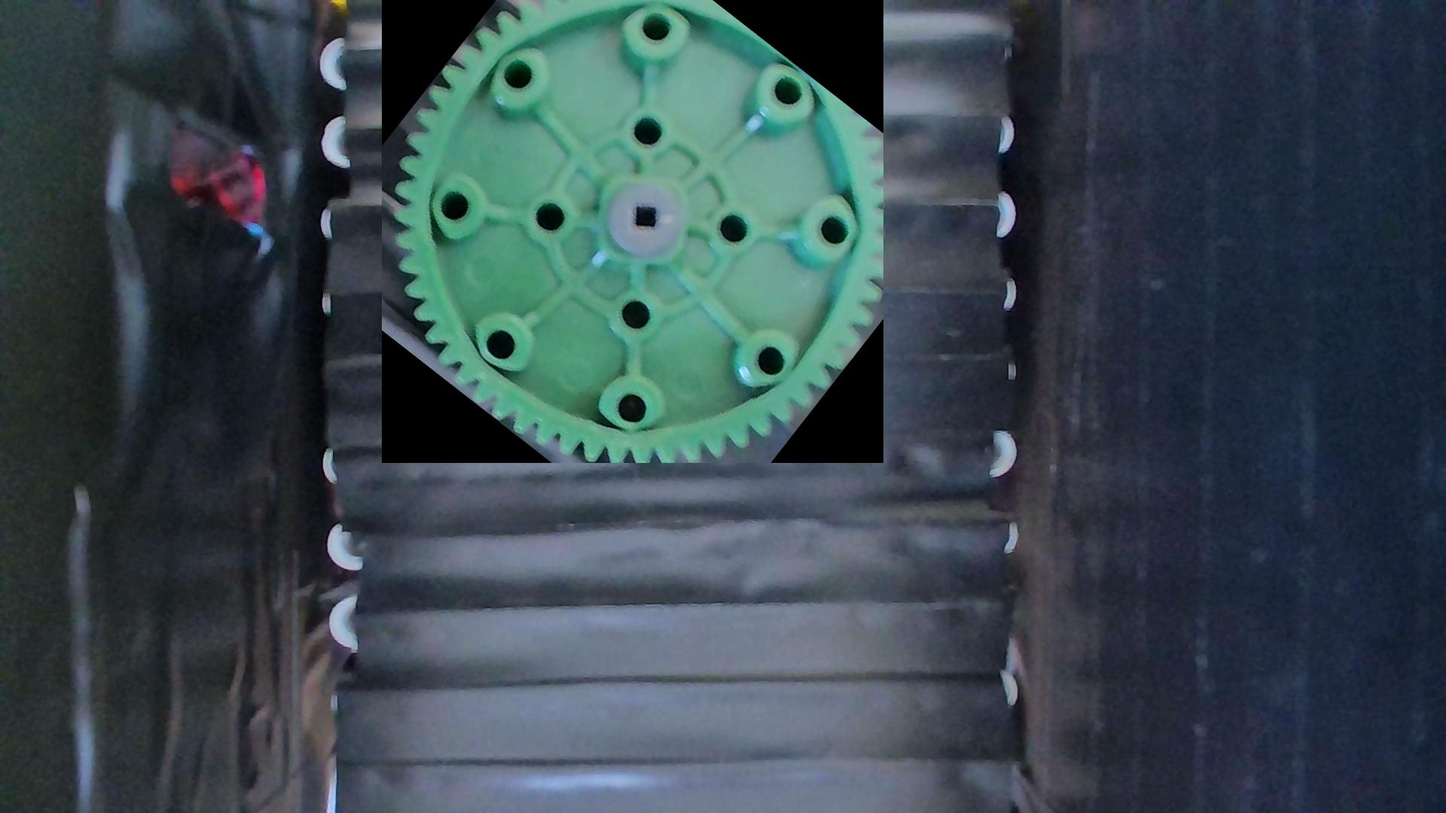gear: (382, 0, 883, 463)
